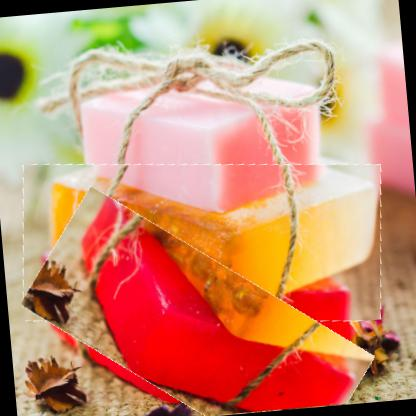soap: (14, 142, 390, 343), (17, 204, 375, 415)
